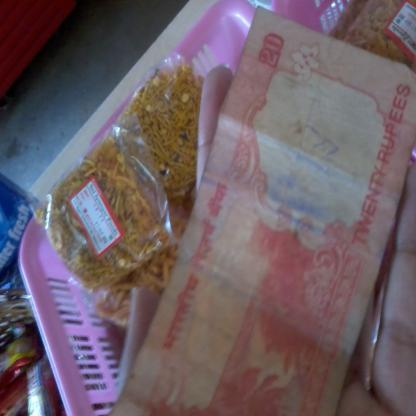Old20Back: (109, 6, 415, 415)
